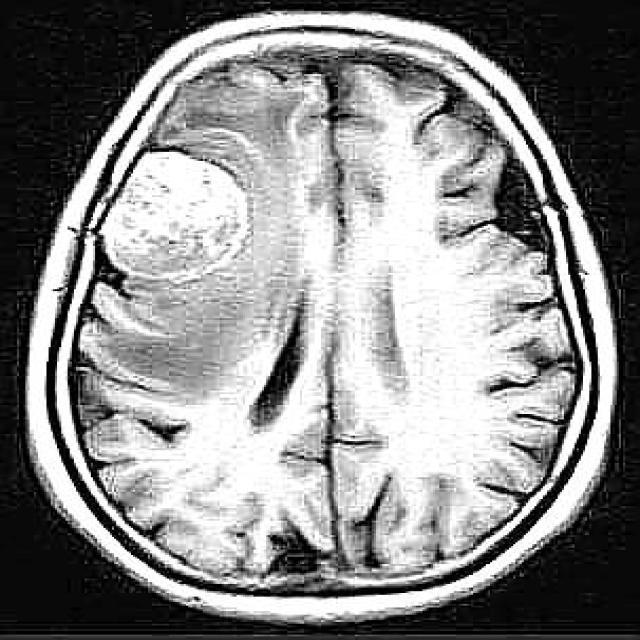Tumor: (92, 147, 253, 286)
